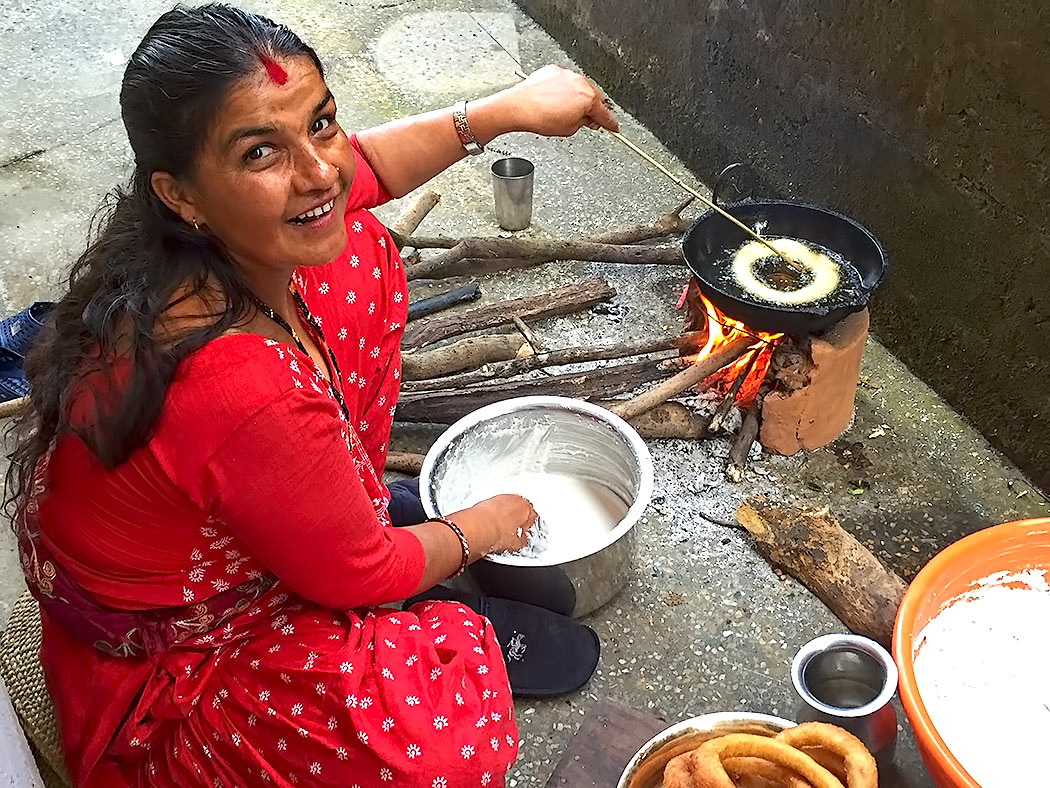sel_roti: (696, 732, 830, 788), (734, 238, 836, 310)
